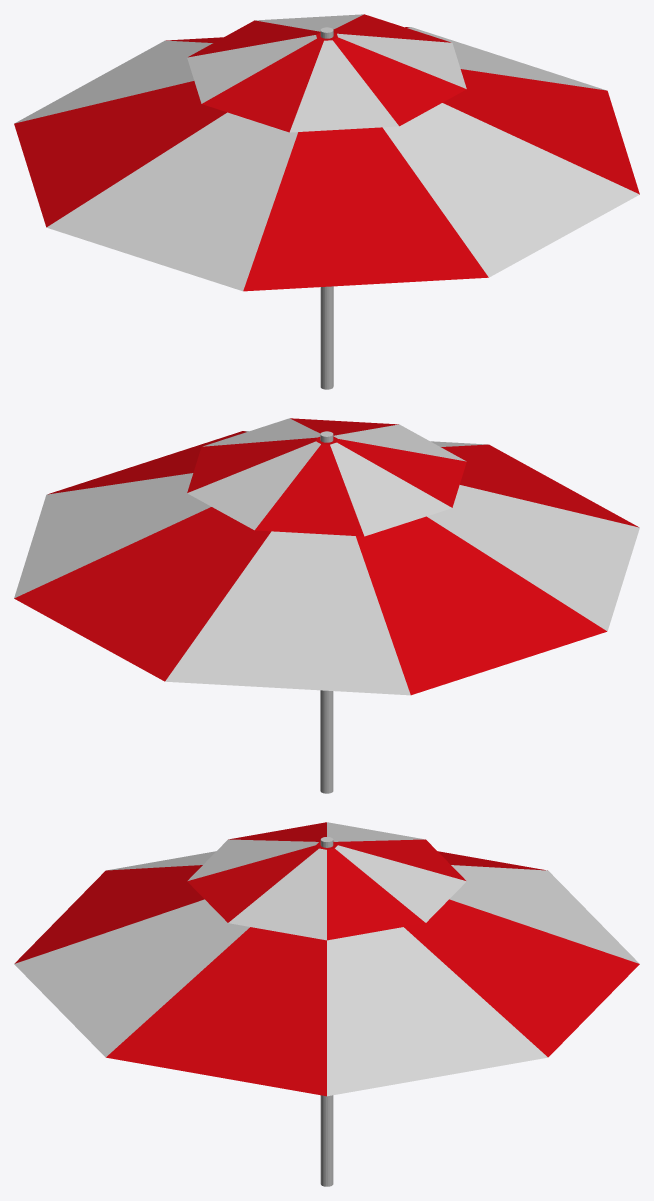
Rendered from Guarda-Sol2.fbx.
The picture shows the model from 3 angles, top to bottom: view 1: azimuth 30°, elevation 25°; view 2: azimuth 150°, elevation 25°; view 3: azimuth 270°, elevation 25°; orthographic projection. The views are drawn at different scales.
Parts seen in each view (by area): view 1: Circle, Cylinder; view 2: Circle, Cylinder; view 3: Circle, Cylinder.
Boxes of the visible parts, x1,y1,x2,y2 form: Circle: [14, 14, 639, 291]; Cylinder: [320, 27, 333, 389]; Circle: [14, 418, 639, 695]; Cylinder: [320, 431, 333, 793]; Circle: [14, 822, 639, 1096]; Cylinder: [320, 837, 333, 1186].
Bounding box in the file's own units: 680 × 413 × 680.
